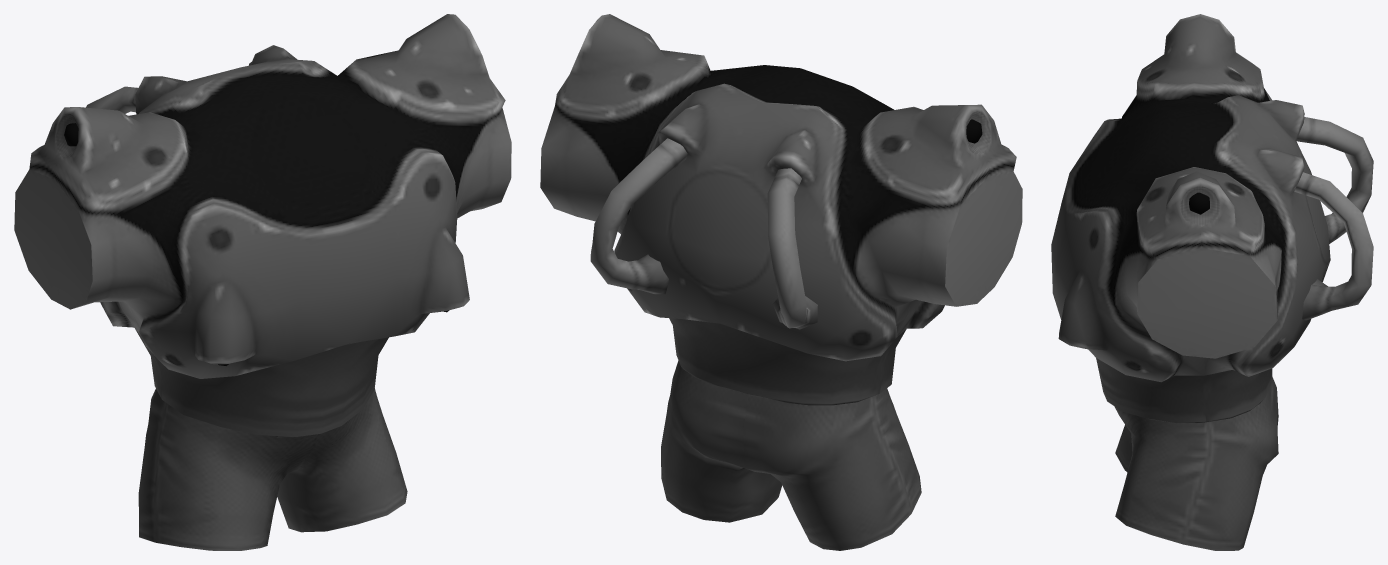
3 renders of one model, left to right at view 1: azimuth 30°, elevation 25°; view 2: azimuth 150°, elevation 25°; view 3: azimuth 270°, elevation 25°, orthographic. The views are drawn at different scales.
Parts seen in each view (by area): view 1: model_0_submesh_1, model_0_submesh_0; view 2: model_0_submesh_1, model_0_submesh_0; view 3: model_0_submesh_1, model_0_submesh_0.
Part boxes in pixels (<box>): model_0_submesh_1: <box>14,14,511,378</box>; model_0_submesh_0: <box>135,329,407,550</box>; model_0_submesh_1: <box>540,14,1022,361</box>; model_0_submesh_0: <box>661,318,921,550</box>; model_0_submesh_1: <box>1051,14,1373,382</box>; model_0_submesh_0: <box>1096,358,1278,550</box>.
Size of the model in its own units: 1.21 by 1.3 by 0.8971.
